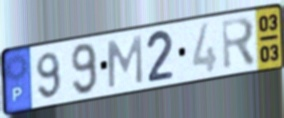2: (144, 28, 177, 86)
4: (190, 21, 219, 75)
9: (69, 41, 100, 97), (34, 49, 65, 101)
M: (106, 33, 145, 90)
R: (220, 14, 258, 73)
